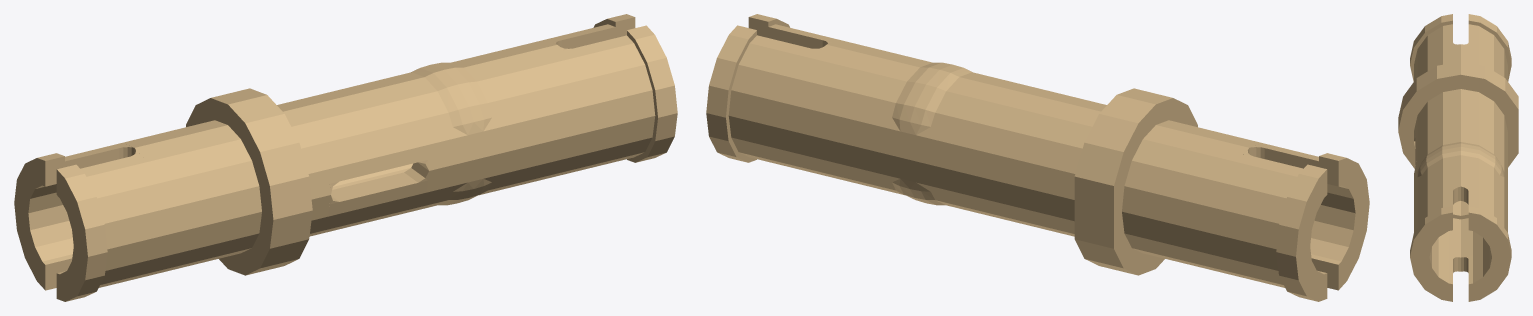
The model's file is peg_3m.obj.
3 renders of one model, left to right at view 1: azimuth 30°, elevation 25°; view 2: azimuth 150°, elevation 25°; view 3: azimuth 270°, elevation 25°, orthographic. The views are drawn at different scales.
Visible parts, largest first — view 1: peg_3m; view 2: peg_3m; view 3: peg_3m.
Part boxes in pixels (box(x1,y1,x2,y2)): peg_3m: box(14, 14, 677, 301); peg_3m: box(706, 14, 1369, 301); peg_3m: box(1398, 14, 1518, 301).
Bounding box in the file's own units: 24 × 6.4 × 6.16.
